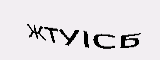Ж: (119, 10, 141, 41)
К: (17, 19, 32, 46)
Л: (67, 15, 97, 49)
Ф: (98, 11, 122, 46)
Щ: (32, 12, 68, 50)
